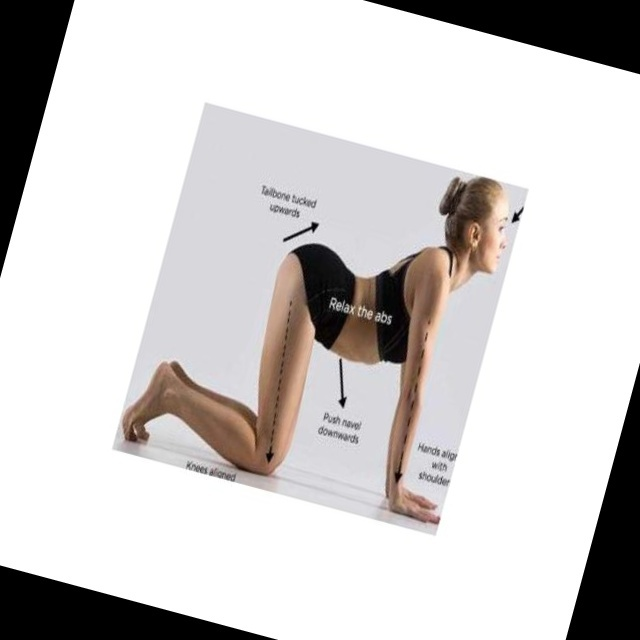Cow_Pose: (120, 178, 510, 525)
